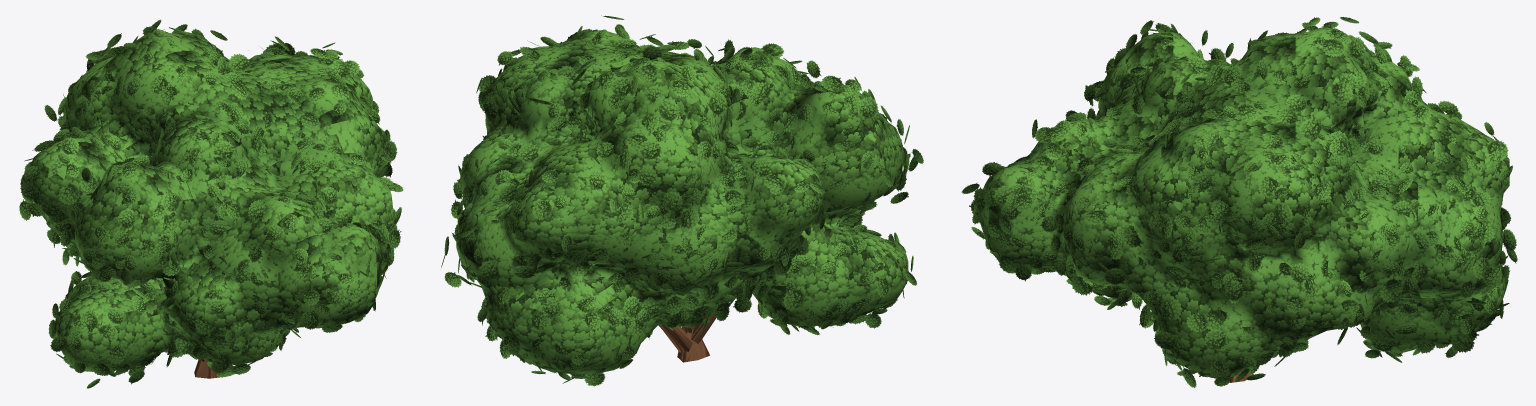
File: bush2_v2.glb
The picture shows the model from 3 angles, left to right: view 1: azimuth 30°, elevation 25°; view 2: azimuth 150°, elevation 25°; view 3: azimuth 270°, elevation 25°; orthographic projection. The views are drawn at different scales.
Parts seen in each view (by area): view 1: bush2_v2_volume_LOD0, bush2_v2_leaves_LOD0; view 2: bush2_v2_volume_LOD0, bush2_v2_leaves_LOD0, bush2_v2_trunk_LOD0; view 3: bush2_v2_volume_LOD0, bush2_v2_leaves_LOD0.
Part boxes in pixels (x1=…): bush2_v2_volume_LOD0: x1=30, y1=31, x2=393, y2=370; bush2_v2_leaves_LOD0: x1=19, y1=19, x2=403, y2=388; bush2_v2_volume_LOD0: x1=456, y1=30, x2=908, y2=374; bush2_v2_leaves_LOD0: x1=441, y1=15, x2=923, y2=386; bush2_v2_trunk_LOD0: x1=658, y1=312, x2=716, y2=362; bush2_v2_volume_LOD0: x1=978, y1=26, x2=1509, y2=377; bush2_v2_leaves_LOD0: x1=961, y1=17, x2=1517, y2=387.
Size of what is drawn, in the model's own units: 1.34 by 1.11 by 1.62.
3 materials, 3 textured.
